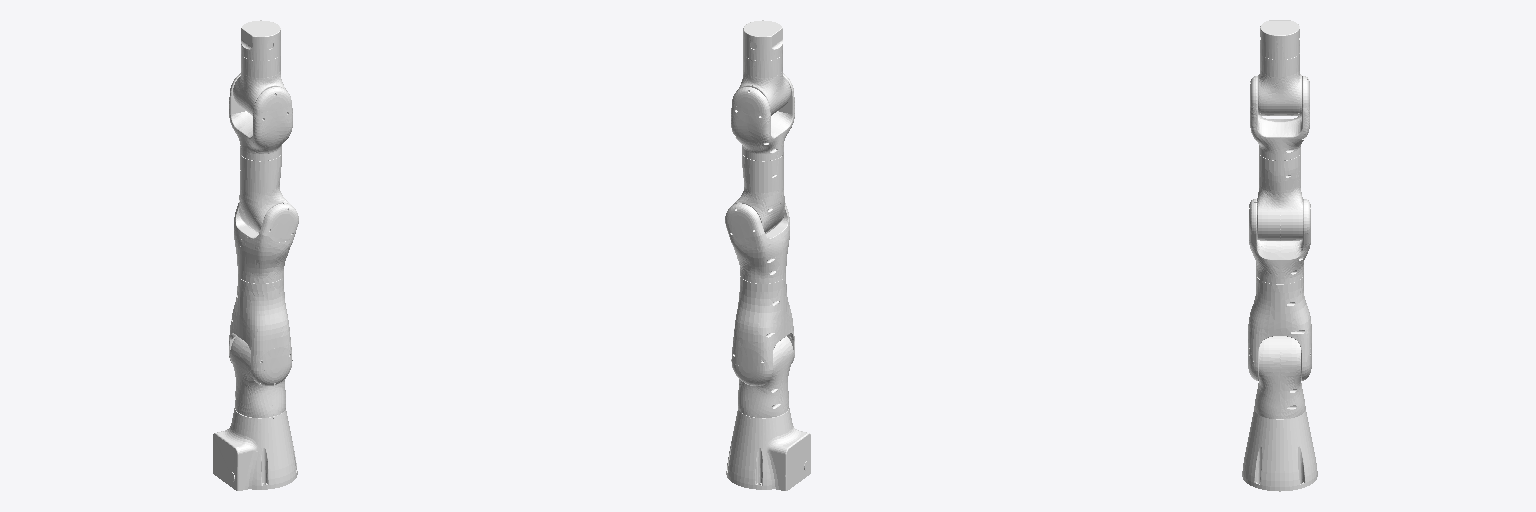
The robot description file, URDF, robot "MercuryE1":
<?xml version="1.0" encoding="utf-8"?>
<!-- This URDF was automatically created by SolidWorks to URDF Exporter! Originally created by Stephen Brawner (brawner@gmail.com) 
     Commit Version: 1.5.1-0-g916b5db  Build Version: 1.5.7152.31018
     For more information, please see http://wiki.ros.org/sw_urdf_exporter -->
<robot
  name="MercuryE1">

  <link name="dummy_link"/>

  <joint name="dummy" type="fixed">
    <parent link="dummy_link"/>
    <child link="base_link"/>
  </joint>

  <link
    name="base_link">
    <inertial>
      <origin
        xyz="-0.00614629756444984 0.0374474669440089 -0.664060840607714"
        rpy="0 0 0" />
      <mass
        value="1.31191278229374" />
      <inertia
        ixx="0.00259985598913733"
        ixy="-5.15846448063641E-07"
        ixz="-6.41615454841017E-05"
        iyy="0.00290399956299818"
        iyz="-2.62938103761196E-07"
        izz="0.0024046436898186" />
    </inertial>
    <visual>
      <origin
        xyz="0 -0.03745 0.72"
        rpy="0 0 0" />
      <geometry>
        <mesh
          filename="package://mercury_description/urdf/mercury_e1/base_link.STL" />
      </geometry>
      <material
        name="">
        <color
          rgba="1 1 1 1" />
      </material>
    </visual>
    <collision>
      <origin
        xyz="0 -0.03745 0.72"
        rpy="0 0 0" />
      <geometry>
        <mesh
          filename="package://mercury_description/urdf/mercury_e1/base_link.STL" />
      </geometry>
    </collision>
  </link>
   <link
    name="J1_Link">
    <inertial>
      <origin
        xyz="1.63099773269339E-07 0.000794315134841039 -0.0616424140432803"
        rpy="0 0 0" />
      <mass
        value="1.01999225695505" />
      <inertia
        ixx="0.00156246"
        ixy="-0.0000018"
        ixz="0.00001175"
        iyy="0.00170282"
        iyz="-0.00007527"
        izz="0.00076009" />
    </inertial>
    <visual>
      <origin
        xyz="0 0 0"
        rpy="0 0 0" />
      <geometry>
        <mesh
          filename="package://mercury_description/urdf/mercury_e1/J1_Link.STL" />
      </geometry>
      <material
        name="">
        <color
          rgba="1 1 1 1" />
      </material>
    </visual>
    <collision>
      <origin
        xyz="0 0 0"
        rpy="0 0 0" />
      <geometry>
        <mesh
          filename="package://mercury_description/urdf/mercury_e1/J1_Link.STL" />
      </geometry>
    </collision>
  </link>
  <joint
    name="Joint1"
    type="revolute">
    <origin
      xyz="0 0 0.255"
      rpy="0 0 0" />
    <parent
      link="base_link" />
    <child
      link="J1_Link" />
    <axis
      xyz="0 0 1" />
    <limit
      lower="-2.7"
      upper="2.7"
      effort="10000"
      velocity="2" />
  </joint>
  <link
    name="J2_Link">
    <inertial>
      <origin
        xyz="-0.000692491703993832 0.0366463656174463 0.0763458249928218"
        rpy="0 0 0" />
      <mass
        value="0.865977615667264" />
      <inertia
        ixx="0.00276487"
        ixy="0.0000007"
        ixz="0.00000995"
        iyy="0.00251889"
        iyz="0.0000109"
        izz="0.00133693" />
    </inertial>
    <visual>
      <origin
        xyz="0 0 0"
        rpy="0 0 0" />
      <geometry>
        <mesh
          filename="package://mercury_description/urdf/mercury_e1/J2_Link.STL" />
      </geometry>
      <material
        name="">
        <color
          rgba="1 1 1 1" />
      </material>
    </visual>
    <collision>
      <origin
        xyz="0 0 0"
        rpy="0 0 0" />
      <geometry>
        <mesh
          filename="package://mercury_description/urdf/mercury_e1/J2_Link.STL" />
      </geometry>
    </collision>
  </link>
  <joint
    name="Joint2"
    type="revolute">
    <origin
      xyz="0 -0.0365011426633475 -0.0292499753403238"
      rpy="0 0 0" />
    <parent
      link="J1_Link" />
    <child
      link="J2_Link" />
    <axis
      xyz="0 1 0" />
    <limit
      lower="-0.96"
      upper="1.83"
      effort="10000"
      velocity="2" />
  </joint>
  <link
    name="J3_Link">
    <inertial>
      <origin
        xyz="0.00106685066376856 -0.000114296203286587 0.0548083026775011"
        rpy="0 0 0" />
      <mass
        value="0.562852488998004" />
      <inertia
        ixx="0.0009047"
        ixy="-0.00000617"
        ixz="0.00003274"
        iyy="0.00072014"
        iyz="-0.00002186"
        izz="0.00065677" />
    </inertial>
    <visual>
      <origin
        xyz="0 0 0"
        rpy="0 0 0" />
      <geometry>
        <mesh
          filename="package://mercury_description/urdf/mercury_e1/J3_Link.STL" />
      </geometry>
      <material
        name="">
        <color
          rgba="1 1 1 1" />
      </material>
    </visual>
    <collision>
      <origin
        xyz="0 0 0"
        rpy="0 0 0" />
      <geometry>
        <mesh
          filename="package://mercury_description/urdf/mercury_e1/J3_Link.STL" />
      </geometry>
    </collision>
  </link>
  <joint
    name="Joint3"
    type="revolute">
    <origin
      xyz="0.000749999999985258 0.0365481432413965 0.156250000000001"
      rpy="0 0 0" />
    <parent
      link="J2_Link" />
    <child
      link="J3_Link" />
    <axis
      xyz="0 0 1" />
    <limit
      lower="-2.79"
      upper="2.79"
      effort="10000"
      velocity="2" />
  </joint>
  <link
    name="J4_Link">
    <inertial>
      <origin
        xyz="-0.00944917060729864 0.0386243263271292 0.0380534911769193"
        rpy="0 0 0" />
      <mass
        value="0.688296580358887" />
      <inertia
        ixx="0.00251597"
        ixy="-0.00000876"
        ixz="-0.0003227"
        iyy="0.00256734"
        iyz="0.000022"
        izz="0.00077279" />
    </inertial>
    <visual>
      <origin
        xyz="0 0 0"
        rpy="0 0 0" />
      <geometry>
        <mesh
          filename="package://mercury_description/urdf/mercury_e1/J4_Link.STL" />
      </geometry>
      <material
        name="">
        <color
          rgba="1 1 1 1" />
      </material>
    </visual>
    <collision>
      <origin
        xyz="0 0 0"
        rpy="0 0 0" />
      <geometry>
        <mesh
          filename="package://mercury_description/urdf/mercury_e1/J4_Link.STL" />
      </geometry>
    </collision>
  </link>
  <joint
    name="Joint4"
    type="revolute">
    <origin
      xyz="0.0149999999999998 -0.0389999807242169 0.111"
      rpy="0 0 0" />
    <parent
      link="J3_Link" />
    <child
      link="J4_Link" />
    <axis
      xyz="0 -1 0" />
    <limit
      lower="-2.35"
      upper="0.314"
      effort="10000"
      velocity="2" />
  </joint>
  <link
    name="J5_Link">
    <inertial>
      <origin
        xyz="-6.2605294924448E-07 0.000510501714815006 0.0513805281375826"
        rpy="0 0 0" />
      <mass
        value="0.410203464751654" />
      <inertia
        ixx="0.00083642"
        ixy="0.000000"
        ixz="0.00000002"
        iyy="0.0005751"
        iyz="-0.00003248"
        izz="0.00065266"  />
    </inertial>
    <visual>
      <origin
        xyz="0 0 0"
        rpy="0 0 0" />
      <geometry>
        <mesh
          filename="package://mercury_description/urdf/mercury_e1/J5_Link.STL" />
      </geometry>
      <material
        name="">
        <color
          rgba="1 1 1 1" />
      </material>
    </visual>
    <collision>
      <origin
        xyz="0 0 0"
        rpy="0 0 0" />
      <geometry>
        <mesh
          filename="package://mercury_description/urdf/mercury_e1/J5_Link.STL" />
      </geometry>
    </collision>
  </link>
  <joint
    name="Joint5"
    type="revolute">
    <origin
      xyz="-0.0149999999999995 0.0390000000000039 0.11995"
      rpy="0 0 0" />
    <parent
      link="J4_Link" />
    <child
      link="J5_Link" />
    <axis
      xyz="0 0 1" />
    <limit
      lower="-2.79"
      upper="2.79"
      effort="10000"
      velocity="2" />
  </joint>
  <link
    name="J6_Link">
    <inertial>
      <origin
        xyz="0.00008 0.03563 0.03304"
        rpy="0 0 0" />
      <mass
        value="0.98" />
      <inertia
        ixx="0.00169248"
        ixy="0.00000053"
        ixz="0.0000044"
        iyy="0.00167564"
        iyz="0.0000515"
        izz="0.0006143"  />
    </inertial>
    <visual>
      <origin
        xyz="0 0 0"
        rpy="0 0 0" />
      <geometry>
        <mesh
          filename="package://mercury_description/urdf/mercury_e1/J6_Link.STL" />
      </geometry>
      <material
        name="">
        <color
          rgba="1 1 1 1" />
      </material>
    </visual>
    <collision>
      <origin
        xyz="0 0 0"
        rpy="0 0 0" />
      <geometry>
        <mesh
          filename="package://mercury_description/urdf/mercury_e1/J6_Link.STL" />
      </geometry>
    </collision>
  </link>
  <joint
    name="Joint6"
    type="revolute">
    <origin
      xyz="0 -0.0374999999991969 0.107499932214404"
      rpy="0 0 0" />
    <parent
      link="J5_Link" />
    <child
      link="J6_Link" />
    <axis
      xyz="0 -1 0" />
    <limit
      lower="-1.74"
      upper="2.042"
      effort="10000"
      velocity="2" />
  </joint>
  <link
    name="J7_Link">
    <inertial>
      <origin
        xyz="0.000775739159792109 5.39776754843804E-05 0.0230765836156535"
        rpy="0 0 0" />
      <mass
        value="0.158638180498606" />
      <inertia
        ixx="0.0000364"
        ixy="0.0000003"
        ixz="0.00000025"
        iyy="0.00003818"
        iyz="-0.00000155"
        izz="0.00005159" />
    </inertial>
    <visual>
      <origin
        xyz="0 0 0"
        rpy="0 0 0" />
      <geometry>
        <mesh
          filename="package://mercury_description/urdf/mercury_e1/J7_Link.STL" />
      </geometry>
      <material
        name="">
        <color
          rgba="1 1 1 1" />
      </material>
    </visual>
    <collision>
      <origin
        xyz="0 0 0"
        rpy="0 0 0" />
      <geometry>
        <mesh
          filename="package://mercury_description/urdf/mercury_e1/J7_Link.STL" />
      </geometry>
    </collision>
  </link>
  <joint
    name="Joint7"
    type="revolute">
    <origin
      xyz="0 0.037499986816365 0.0819499999999993"
      rpy="0 0 0" />
    <parent
      link="J6_Link" />
    <child
      link="J7_Link" />
    <axis
      xyz="0 0 1" />
    <limit
      lower="-2.35"
      upper="2.35"
      effort="10000"
      velocity="2" />
  </joint>
</robot>

--- Facts derived from the render (not from the file) ---
The picture shows the robot from 3 angles, left to right: view 1: azimuth 30°, elevation 25°; view 2: azimuth 150°, elevation 25°; view 3: azimuth 270°, elevation 25°; orthographic projection.
Model MercuryE1 with 9 links and 8 joints (7 revolute, 1 fixed), rooted at dummy_link, posed every joint at zero.
Links seen in each view (by area): view 1: base_link, J2_Link, J3_Link, J5_Link, J4_Link, J1_Link, J6_Link, J7_Link; view 2: base_link, J2_Link, J3_Link, J5_Link, J4_Link, J1_Link, J6_Link, J7_Link; view 3: base_link, J2_Link, J4_Link, J1_Link, J3_Link, J5_Link, J6_Link, J7_Link.
Link boxes in pixels (x1,y1,x2,y2): base_link: (213,408,297,490); J2_Link: (229,276,292,385); J3_Link: (234,203,298,283); J5_Link: (229,73,292,160); J4_Link: (239,154,290,232); J1_Link: (230,336,285,417); J6_Link: (233,54,286,115); J7_Link: (241,20,280,60); base_link: (726,408,810,490); J2_Link: (731,276,794,385); J3_Link: (725,203,789,283); J5_Link: (731,73,794,160); J4_Link: (733,154,784,232); J1_Link: (738,336,793,417); J6_Link: (737,54,790,115); J7_Link: (743,20,782,60); base_link: (1242,410,1317,491); J2_Link: (1248,275,1311,380); J4_Link: (1257,154,1302,240); J1_Link: (1254,336,1305,418); J3_Link: (1249,199,1310,283); J5_Link: (1250,76,1309,160); J6_Link: (1258,53,1301,115); J7_Link: (1260,20,1299,59).
Size in the robot's own frame: 0.1358 by 0.1289 by 0.8463 metres.
8 mesh visuals loaded from 8 distinct referenced files (8 binary STL).
